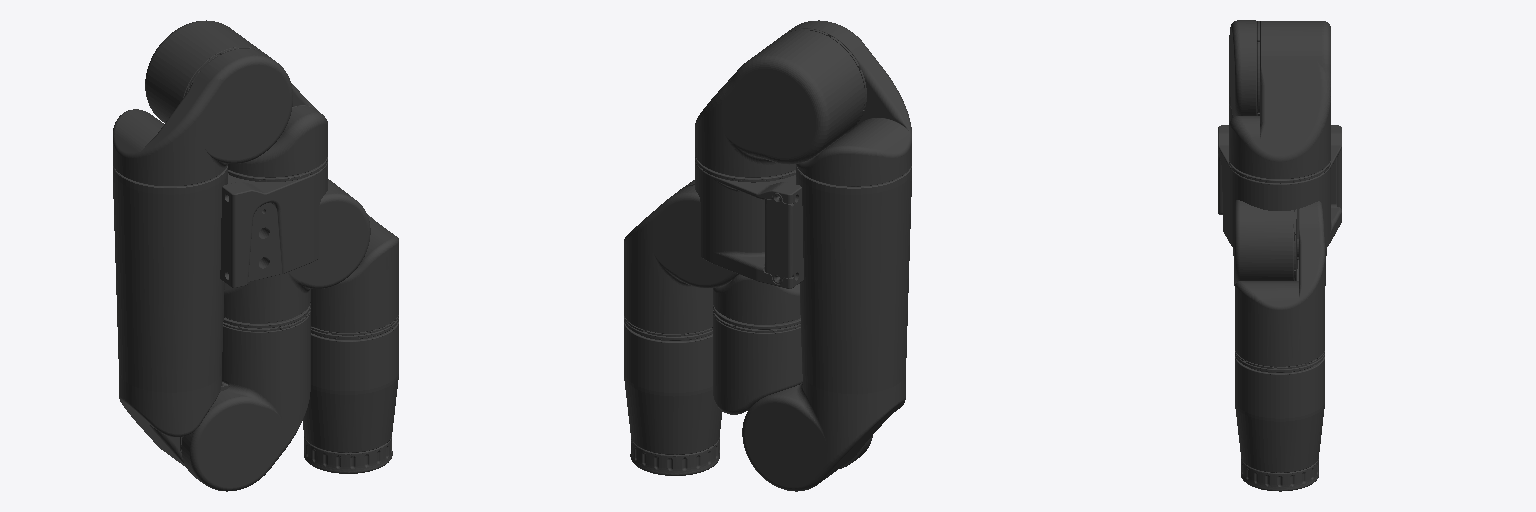
robot.urdf — bravo7:
<robot name="bravo7">
    <link name="base_link"/>
    <material name="bravo_black">
    <color rgba="0.3 0.3 0.3 1"/>
    </material>
    <joint name="bravo_joint" type="fixed">
        <origin rpy="0 0 0" xyz="0 0 0"/>
        <parent link="base_link"/>
        <child link="bravo_base_link"/>
    </joint>
    <link name="bravo_base_link"/>


    <link name="bravo_rs2_266_link">
        <visual>
            <geometry>
                <mesh filename="package://bravo_description/meshes/RS2-266.stl"/>
            </geometry>
            <material name="bravo_black"/>
        </visual>
    </link>

    <joint name="bravo_rs2_266_joint" type="fixed">
        <parent link="bravo_base_link"/>
        <child link="bravo_rs2_266_link"/>
        <origin rpy="0 0 0"/>
    </joint>

    <link name="bravo_rs2_217_link">
        <visual>
            <geometry>
                <mesh filename="package://bravo_description/meshes/RS2-217.stl"/>
            </geometry>
            <material name="bravo_black"/>
        </visual>
    </link>

    <joint name="bravo_axis_g" type="revolute">
        <parent link="bravo_rs2_266_link"/>
        <child link="bravo_rs2_217_link"/>
        <origin rpy="0 0 0" xyz="0.0665 0 0.078"/>
        <axis xyz="0 0 -1"/>
        <limit effort="9.0" lower="0.0" upper="6.3" velocity="0.5"/>
    </joint>

    <link name="bravo_rs2_250_212_214_link">
        <visual>
            <geometry>
                <mesh filename="package://bravo_description/meshes/RS2-250-212-214.stl"/>
            </geometry>
            <material name="bravo_black"/>
        </visual>
    </link>

    <joint name="bravo_axis_f" type="revolute">
        <parent link="bravo_rs2_217_link"/>
        <child link="bravo_rs2_250_212_214_link"/>
        <origin rpy="0 0 0" xyz="-0.046 0 0.0674"/>
        <axis xyz="0 1 0"/>
        <limit effort="9.0" lower="0.0" upper="3.5" velocity="0.5"/>
    </joint>

    <link name="bravo_rs2_268_link">
        <visual>
            <geometry>
                <mesh filename="package://bravo_description/meshes/RS2-268.stl"/>
            </geometry>
            <material name="bravo_black"/>
        </visual>
    </link>

    <joint name="bravo_axis_e" type="revolute">
        <parent link="bravo_rs2_250_212_214_link"/>
        <child link="bravo_rs2_268_link"/>
        <origin rpy="0 0 0" xyz="-0.0052 0 -0.29355"/>
        <axis xyz="0 1 0"/>
        <limit effort="9.0" lower="0.0" upper="3.5" velocity="0.5"/>
    </joint>


    <link name="bravo_rs2_214_link">
        <visual>
            <geometry>
                <mesh filename="package://bravo_description/meshes/RS2-214.stl"/>
            </geometry>
            <material name="bravo_black"/>
        </visual>
    </link>

    <joint name="bravo_axis_d" type="revolute">
        <parent link="bravo_rs2_268_link"/>
        <child link="bravo_rs2_214_link"/>
        <origin rpy="0 0 3.14159" xyz="0.0408 0 0.09695"/>
        <axis xyz="0 0 -1"/>
        <limit effort="9.0" lower="0.0" upper="6.3" velocity="0.5"/>
    </joint>

    <link name="bravo_rs2_161_link">
        <visual>
            <geometry>
                <mesh filename="package://bravo_description/meshes/RS2-161.stl"/>
            </geometry>
            <material name="bravo_black"/>
        </visual>
    </link>

    <joint name="bravo_axis_c" type="revolute">
        <parent link="bravo_rs2_214_link"/>
        <child link="bravo_rs2_161_link"/>
        <origin rpy="0 0 0" xyz="-0.0408 0 0.063"/>
        <axis xyz="0 1 0"/>
        <limit effort="9.0" lower="0.0" upper="3.5" velocity="0.5"/>
    </joint>



    <link name="bravo_rs2_180_link">
        <visual>
            <geometry>
                <mesh filename="package://bravo_description/meshes/RS2-180.stl"/>
            </geometry>
            <material name="bravo_black"/>
        </visual>
    </link>


    <joint name="bravo_axis_b" type="revolute">
        <parent link="bravo_rs2_161_link"/>
        <child link="bravo_rs2_180_link"/>
        <origin rpy="0 3.14159 0" xyz="-0.0408 0 -0.08863"/>
        <axis xyz="0 0 -1"/>
        <limit effort="9.0" lower="0.0" upper="6.3" velocity="0.5"/>
    </joint>

    <joint name="bravo_jaws_joint" type="fixed">
    <origin rpy="0 0 0" xyz=" 0 0 0.124"/>
    <parent link="bravo_rs2_180_link"/>
    <child link="bravo_jaws_base_link"/>
  </joint>

    <material name="bravo_jaws_black">
    <color rgba="0.3 0.3 0.3 1"/>
  </material>
    <link name="bravo_jaws_base_link">
        <visual>
            <geometry>
                <mesh filename="package://bravo_description/meshes/end_effectors/RS2-257.stl"/>
            </geometry>
            <material name="bravo_jaws_black"/>
            </visual>
    </link>
    <link name="bravo_push_rod"/>
    <joint name="bravo_axis_a" type="prismatic">
        <origin rpy="0 0 0" xyz="0 0 0.009"/>
        <parent link="bravo_jaws_base_link"/>
        <child link="bravo_push_rod"/>
        <axis xyz="0 0 1"/>
        <limit effort="10" lower="0" upper="0.035" velocity="10"/>
    </joint>
    <link name="bravo_rs2_255_link">
        <visual>
            <geometry>
                <mesh filename="package://bravo_description/meshes/end_effectors/RS2-255.stl"/>
            </geometry>
        <material name="bravo_jaws_black"/>
        <origin rpy="0 0 0" xyz="0 0 0"/>
        </visual>
    </link>
    <joint name="bravo_rs2_255_joint" type="revolute">
        <origin rpy="0 0 0" xyz="0 0.033 0.0097"/>
        <parent link="bravo_jaws_base_link"/>
        <child link="bravo_rs2_255_link"/>
        <axis xyz="-1 0 0"/>
        <limit effort="10" lower="0" upper="0.5" velocity="10"/>
        <mimic joint="bravo_axis_a" multiplier="15" offset="0"/>
    </joint>
    <link name="bravo_rs2_255_jaw_inside_link">
        <visual>
            <geometry>
                <mesh filename="package://bravo_description/meshes/end_effectors/RS2-255-Jaw-Inside.stl"/>
            </geometry>
            <material name="bravo_jaws_black"/>
            <origin rpy="0 0 0" xyz="0 0 0"/>
        </visual>
    </link>
    <joint name="bravo_rs2_255_jaw_inside_joint" type="revolute">
        <origin rpy="0 0 0" xyz="0 -0.033 0.0097"/>
        <parent link="bravo_jaws_base_link"/>
        <child link="bravo_rs2_255_jaw_inside_link"/>
        <axis xyz="1 0 0"/>
        <limit effort="10" lower="0" upper="0.5" velocity="10"/>
        <mimic joint="bravo_axis_a" multiplier="15" offset="0"/>
    </joint>
</robot>

--- Facts derived from the render (not from the file) ---
The picture shows the robot from 3 angles, left to right: view 1: azimuth 30°, elevation 25°; view 2: azimuth 150°, elevation 25°; view 3: azimuth 270°, elevation 25°; orthographic projection.
Robot: bravo7 — 13 links, 12 joints (8 revolute, 1 prismatic, 3 fixed); root link base_link; default pose: all joints at 0.
Visible links, largest first — view 1: bravo_rs2_250_212_214_link, bravo_rs2_268_link, bravo_rs2_180_link, bravo_rs2_266_link, bravo_rs2_217_link, bravo_rs2_214_link, bravo_rs2_161_link; view 2: bravo_rs2_250_212_214_link, bravo_rs2_217_link, bravo_rs2_180_link, bravo_rs2_161_link, bravo_rs2_266_link, bravo_rs2_268_link, bravo_rs2_214_link; view 3: bravo_rs2_217_link, bravo_rs2_180_link, bravo_rs2_161_link, bravo_rs2_266_link, bravo_rs2_214_link, bravo_rs2_250_212_214_link.
Link boxes in pixels (x1,y1,x2,y2): bravo_rs2_250_212_214_link: (113, 49, 292, 466); bravo_rs2_268_link: (181, 308, 310, 491); bravo_rs2_180_link: (303, 318, 398, 473); bravo_rs2_266_link: (220, 160, 327, 287); bravo_rs2_217_link: (145, 20, 327, 180); bravo_rs2_214_link: (223, 179, 370, 328); bravo_rs2_161_link: (310, 214, 398, 335); bravo_rs2_250_212_214_link: (742, 20, 911, 491); bravo_rs2_217_link: (695, 29, 866, 180); bravo_rs2_180_link: (624, 318, 722, 475); bravo_rs2_161_link: (624, 185, 738, 336); bravo_rs2_266_link: (695, 158, 803, 288); bravo_rs2_268_link: (713, 310, 872, 468); bravo_rs2_214_link: (679, 180, 800, 329); bravo_rs2_217_link: (1229, 21, 1330, 181); bravo_rs2_180_link: (1235, 354, 1324, 491); bravo_rs2_161_link: (1235, 201, 1324, 368); bravo_rs2_266_link: (1218, 125, 1341, 259); bravo_rs2_214_link: (1235, 200, 1298, 283); bravo_rs2_250_212_214_link: (1229, 20, 1326, 285).
Bounding box of the posed robot: 0.25 × 0.1112 × 0.3955 m (x, y, z).
7 mesh visuals loaded from 10 distinct referenced files (7 binary STL); not drawn: 3 (reference not matched to a file when rendering).